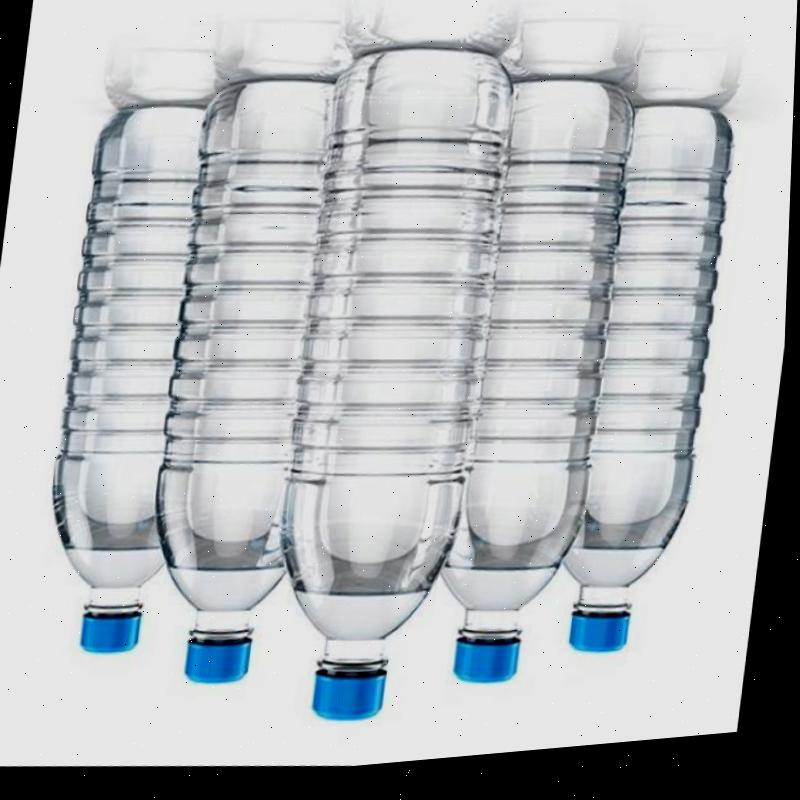botella: (257, 42, 517, 742), (425, 76, 638, 702), (136, 72, 348, 697), (37, 102, 221, 664), (563, 104, 742, 674)
